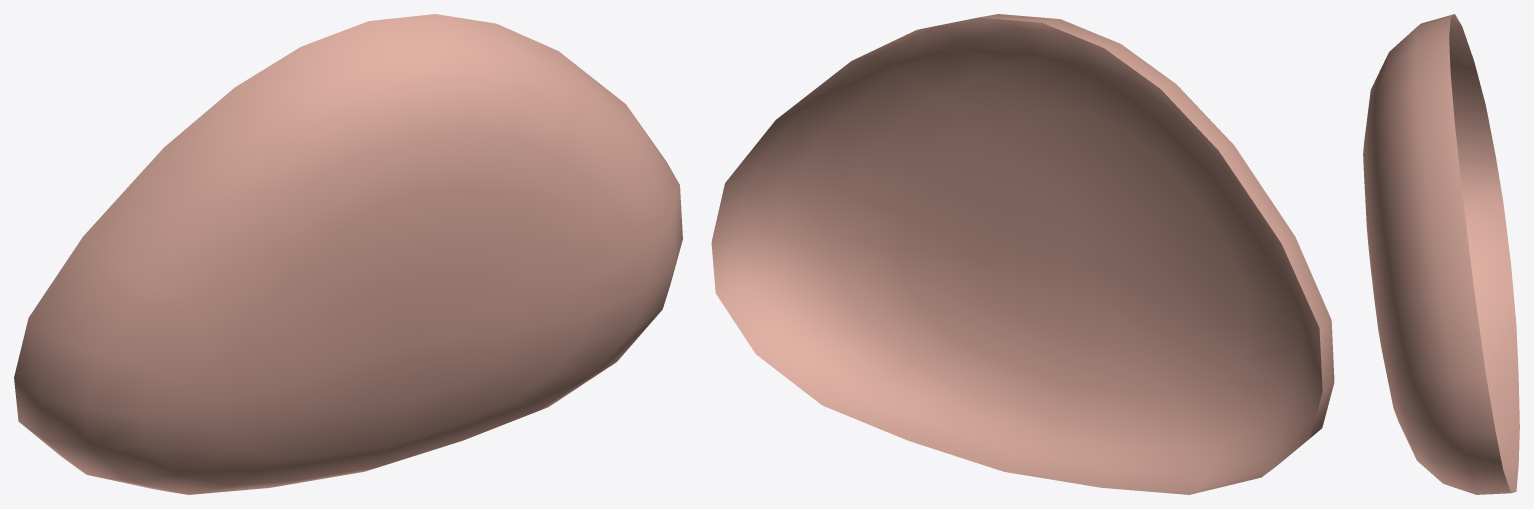
3 renders of one model, left to right at view 1: azimuth 30°, elevation 25°; view 2: azimuth 150°, elevation 25°; view 3: azimuth 270°, elevation 25°, orthographic. The views are drawn at different scales.
Visible parts, largest first — view 1: pCylinder1; view 2: pCylinder1; view 3: pCylinder1.
Part boxes in pixels (box(x1,y1,x2,y2)): pCylinder1: box(14, 14, 682, 494); pCylinder1: box(711, 14, 1334, 494); pCylinder1: box(1363, 14, 1519, 494).
Bounding box in the file's own units: 0.0993 × 0.0662 × 0.0238.
